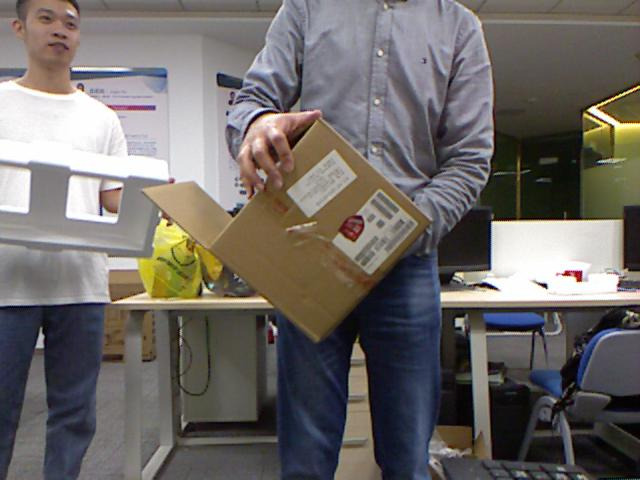cardboard paper: (142, 118, 427, 340)
